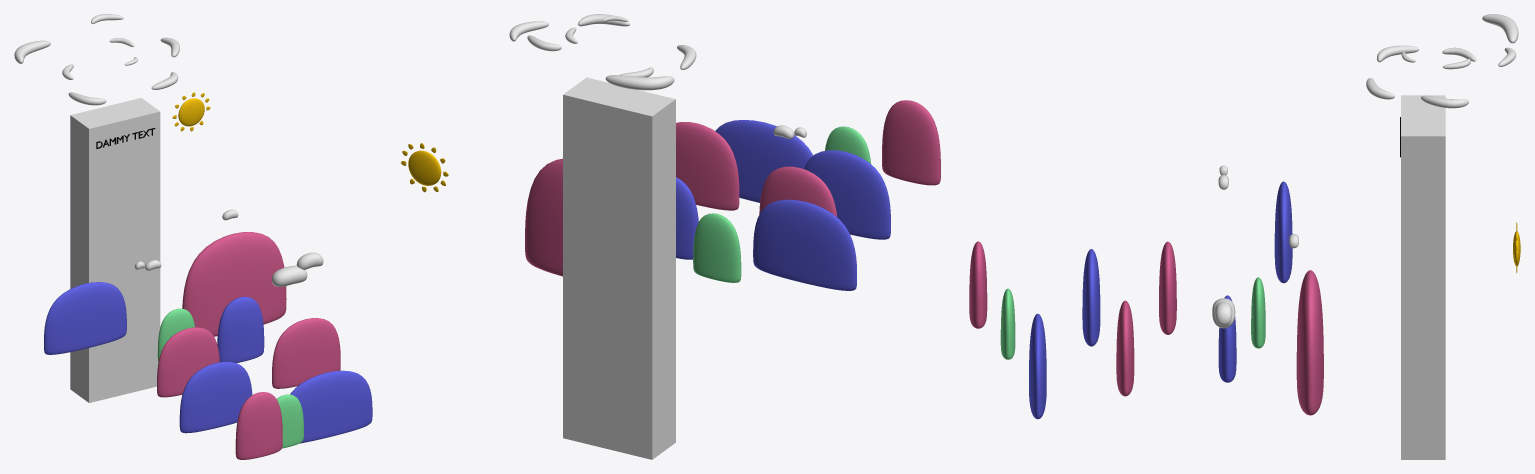
File: scene_dammy.glb
The picture shows the model from 3 angles, left to right: view 1: azimuth 30°, elevation 25°; view 2: azimuth 150°, elevation 25°; view 3: azimuth 270°, elevation 25°; orthographic projection. The views are drawn at different scales.
Parts seen in each view (by area): view 1: Cube.015, Cube.004, Cube.010, Cube.002, Cube.005, Cube.003, Cube.006, Cube, Cube.008, Cube.001, Cube.009, cube (+2 smaller); view 2: Cube.015, Cube.010, Cube.005, Cube.003, Cube, Cube.002, Cube.004, Cube.009, Cube.006, Cube.008, cube, Cube.001 (+1 smaller); view 3: Cube.015, Cube.004, Cube.002, Cube.010, Cube.005, Cube.003, Cube.006, Cube, Cube.008, Cube.001, Cube.009.
Part boxes in pixels (x1,y1,x2,y2): Cube.015: (70,98,160,402); Cube.004: (182,232,286,336); Cube.010: (44,282,126,354); Cube.002: (290,370,372,443); Cube.005: (179,361,252,433); Cube.003: (272,318,340,388); Cube.006: (157,327,219,397); Cube: (235,392,282,459); Cube.008: (217,296,264,363); Cube.001: (276,394,303,448); Cube.009: (157,308,194,361); cube: (172,92,210,131); Cube.015: (563,77,675,459); Cube.010: (753,199,856,290); Cube.005: (804,150,890,239); Cube.003: (676,122,739,210); Cube: (882,100,940,185); Cube.002: (715,120,813,202); Cube.004: (525,158,562,276); Cube.009: (693,213,741,282); Cube.006: (759,166,837,216); Cube.008: (676,177,698,259); cube: (401,143,448,192); Cube.001: (825,126,870,163); Cube.015: (1401,95,1445,459); Cube.004: (1296,270,1323,415); Cube.002: (1029,313,1046,419); Cube.010: (1274,181,1292,283); Cube.005: (1082,249,1100,346); Cube.003: (1116,300,1134,396); Cube.006: (1159,241,1176,334); Cube: (969,241,987,328); Cube.008: (1218,295,1236,382); Cube.001: (1000,288,1015,359); Cube.009: (1251,277,1265,348).
Bounding box in the file's own units: 16.25 × 19.88 × 24.78.
